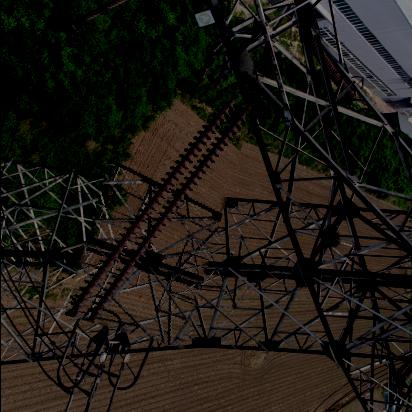insulator: (81, 72, 238, 344)
